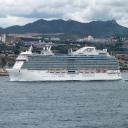cruises: (8, 44, 124, 82)
